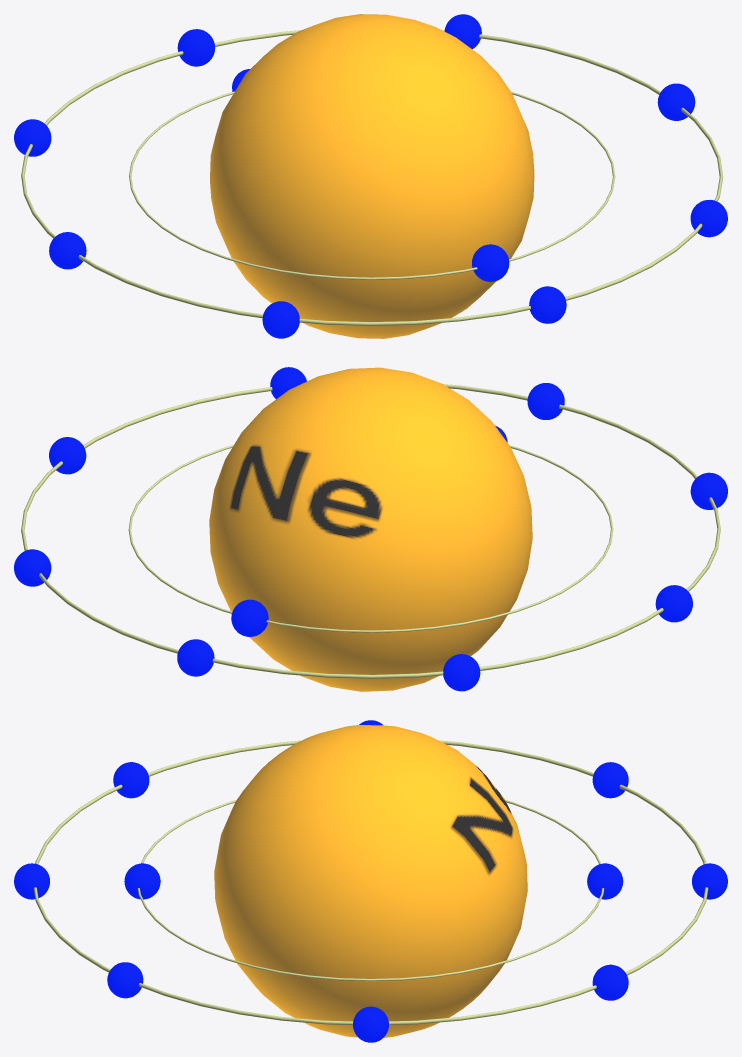
3 views of the same model, one above another, from view 1: azimuth 30°, elevation 25°; view 2: azimuth 150°, elevation 25°; view 3: azimuth 270°, elevation 25° (orthographic). The views are drawn at different scales.
Parts seen in each view (by area): view 1: 球体, 贝塞尔圆环.001, 贝塞尔圆环, 球体.008, 球体.009, 球体.004, 球体.006, 球体.007, 球体.010, 球体.011, 球体.005, 球体.002; view 2: 球体, 贝塞尔圆环.001, 贝塞尔圆环, 球体.001, 球体.007, 球体.005, 球体.009, 球体.006, 球体.002, 球体.011, 球体.008, 球体.010; view 3: 球体, 贝塞尔圆环.001, 贝塞尔圆环, 球体.011, 球体.010, 球体.002, 球体.001, 球体.008, 球体.005, 球体.004, 球体.009, 球体.007.
Part boxes in pixels (x1,y1,x2,y2): 球体: (210,14,534,338); 贝塞尔圆环.001: (21,30,723,325); 贝塞尔圆环: (129,91,615,279); 球体.008: (262,301,299,338); 球体.009: (529,286,566,323); 球体.004: (472,244,509,281); 球体.006: (49,232,86,269); 球体.007: (177,29,215,66); 球体.010: (690,199,727,237); 球体.011: (657,83,695,120); 球体.005: (14,119,51,156); 球体.002: (444,14,481,49); 球体: (209,367,532,691); 贝塞尔圆环.001: (21,384,720,678); 贝塞尔圆环: (128,445,613,632); 球体.001: (231,599,268,636); 球体.007: (177,639,214,676); 球体.005: (443,654,480,691); 球体.009: (527,383,564,419); 球体.006: (655,585,692,622); 球体.002: (14,549,51,586); 球体.011: (49,437,86,474); 球体.008: (690,472,727,509); 球体.010: (270,367,306,399); 球体: (214,725,527,1037); 贝塞尔圆环.001: (33,740,708,1025); 贝塞尔圆环: (137,800,604,981); 球体.011: (353,1006,388,1042); 球体.010: (107,962,143,998); 球体.002: (592,964,628,1000); 球体.001: (587,863,623,899); 球体.008: (113,762,149,798); 球体.005: (592,762,628,798); 球体.004: (124,863,160,899); 球体.009: (14,863,49,899); 球体.007: (692,863,727,899).
Bounding box in the file's own units: 1.85 × 0.8145 × 1.85.
3 materials, 1 textured.
